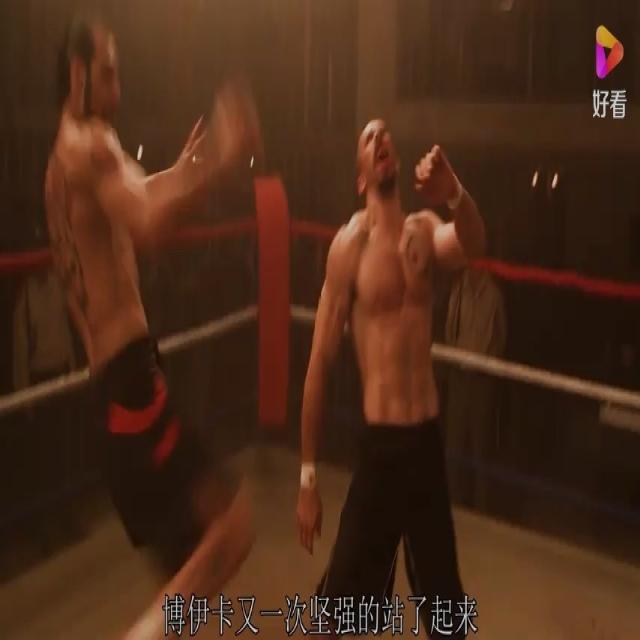fight: (11, 0, 510, 639)
